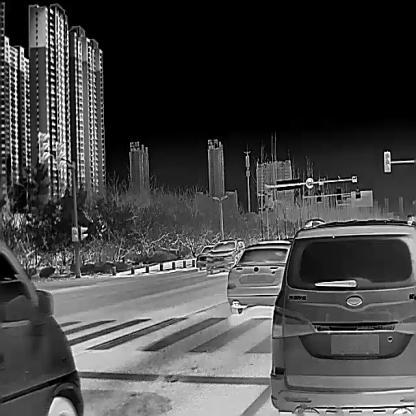car: (269, 213, 415, 415), (0, 241, 83, 415), (225, 238, 292, 313), (205, 236, 245, 273), (195, 244, 215, 269)
